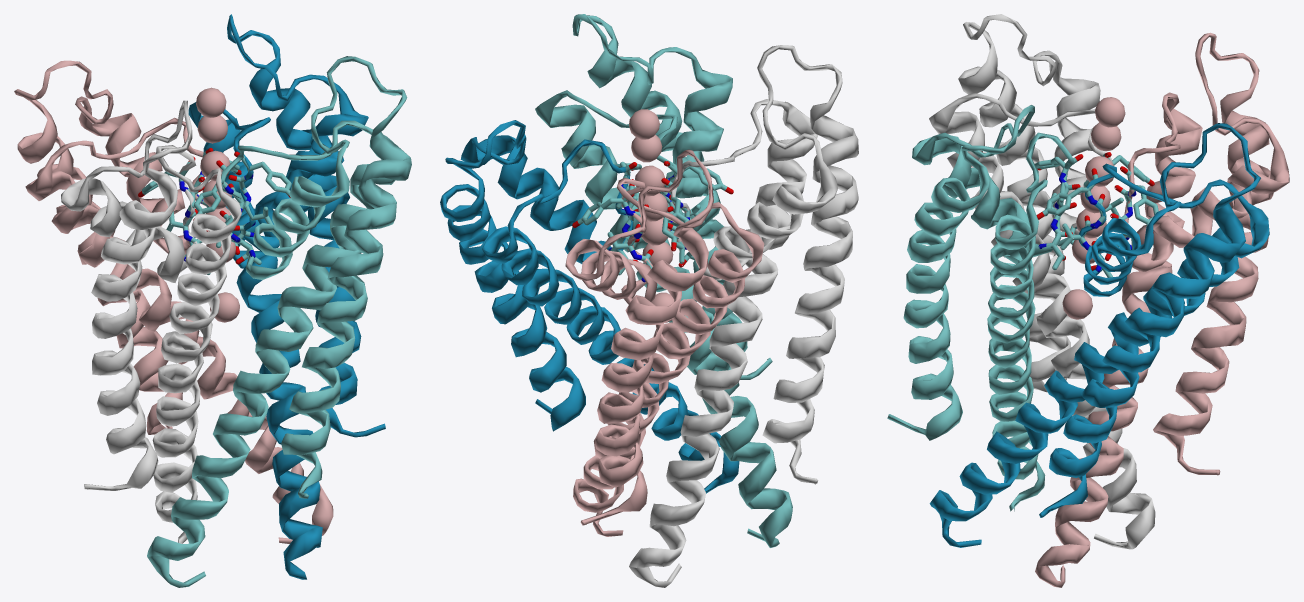
Rendered from ion_channel.glb.
The picture shows the model from 3 angles, left to right: view 1: azimuth 30°, elevation 25°; view 2: azimuth 150°, elevation 25°; view 3: azimuth 270°, elevation 25°; orthographic projection.
Parts seen in each view (by area): view 1: vmd_mol5_rep3, vmd_mol5_rep4, vmd_mol5_rep5, vmd_mol5_rep2, vmd_mol5_rep0, vmd_mol5_rep1; view 2: vmd_mol5_rep4, vmd_mol5_rep2, vmd_mol5_rep5, vmd_mol5_rep3, vmd_mol5_rep1, vmd_mol5_rep0; view 3: vmd_mol5_rep5, vmd_mol5_rep2, vmd_mol5_rep3, vmd_mol5_rep4, vmd_mol5_rep0, vmd_mol5_rep1.
Boxes of the visible parts, x1,y1,x2,y2 form: vmd_mol5_rep3: (147,56,411,587); vmd_mol5_rep4: (61,100,241,543); vmd_mol5_rep5: (188,14,385,579); vmd_mol5_rep2: (14,60,333,543); vmd_mol5_rep0: (138,148,291,274); vmd_mol5_rep1: (196,87,239,322); vmd_mol5_rep4: (629,45,858,587); vmd_mol5_rep2: (565,149,764,536); vmd_mol5_rep5: (440,120,739,493); vmd_mol5_rep3: (535,14,792,547); vmd_mol5_rep1: (629,109,674,322); vmd_mol5_rep0: (572,161,733,282); vmd_mol5_rep5: (929,123,1269,547); vmd_mol5_rep2: (1035,32,1289,587); vmd_mol5_rep3: (887,105,1074,511); vmd_mol5_rep4: (929,14,1155,549); vmd_mol5_rep0: (1035,152,1158,277); vmd_mol5_rep1: (1062,97,1125,319).
Size of the model in its own units: 1.51 by 2.21 by 1.59.
